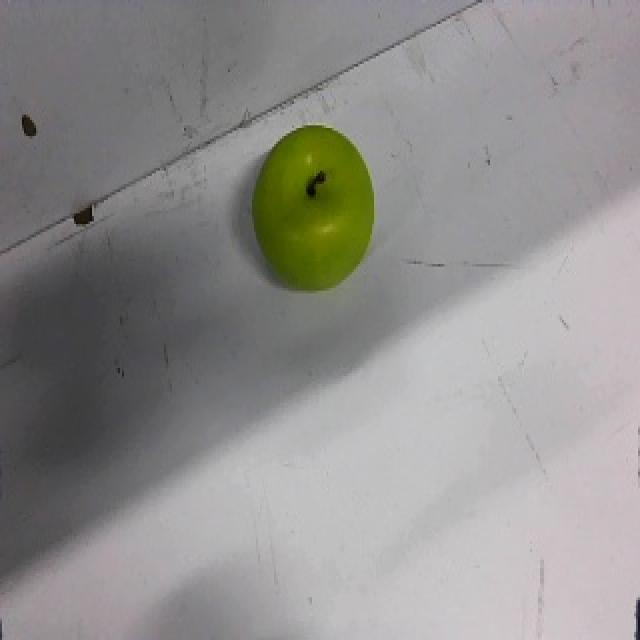apple: (250, 124, 376, 292)
